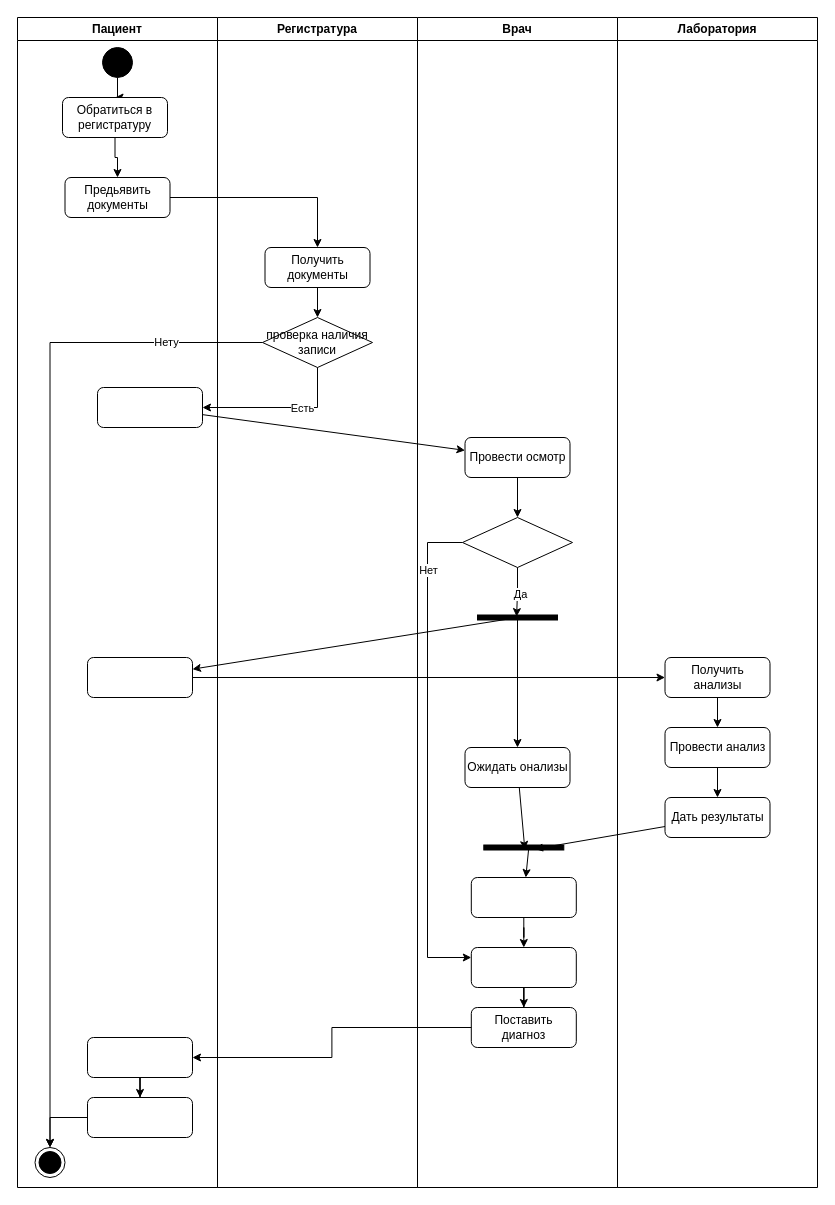
Image size: 835x1205. Some labels were removed from this diagram. Each missing label, with the centre of its shape:
"Завершить приём" belongs at pixel 139 1117.
"Назнчить лечение" belongs at pixel 523 967.
"Направиться к врачу" belongs at pixel 149 407.
"необходимость анализов" belongs at pixel 517 542.
"Получить результаты" belongs at pixel 523 897.
"Получить рекоминдации" belongs at pixel 139 1057.
"Сдать анализы" belongs at pixel 139 677.
